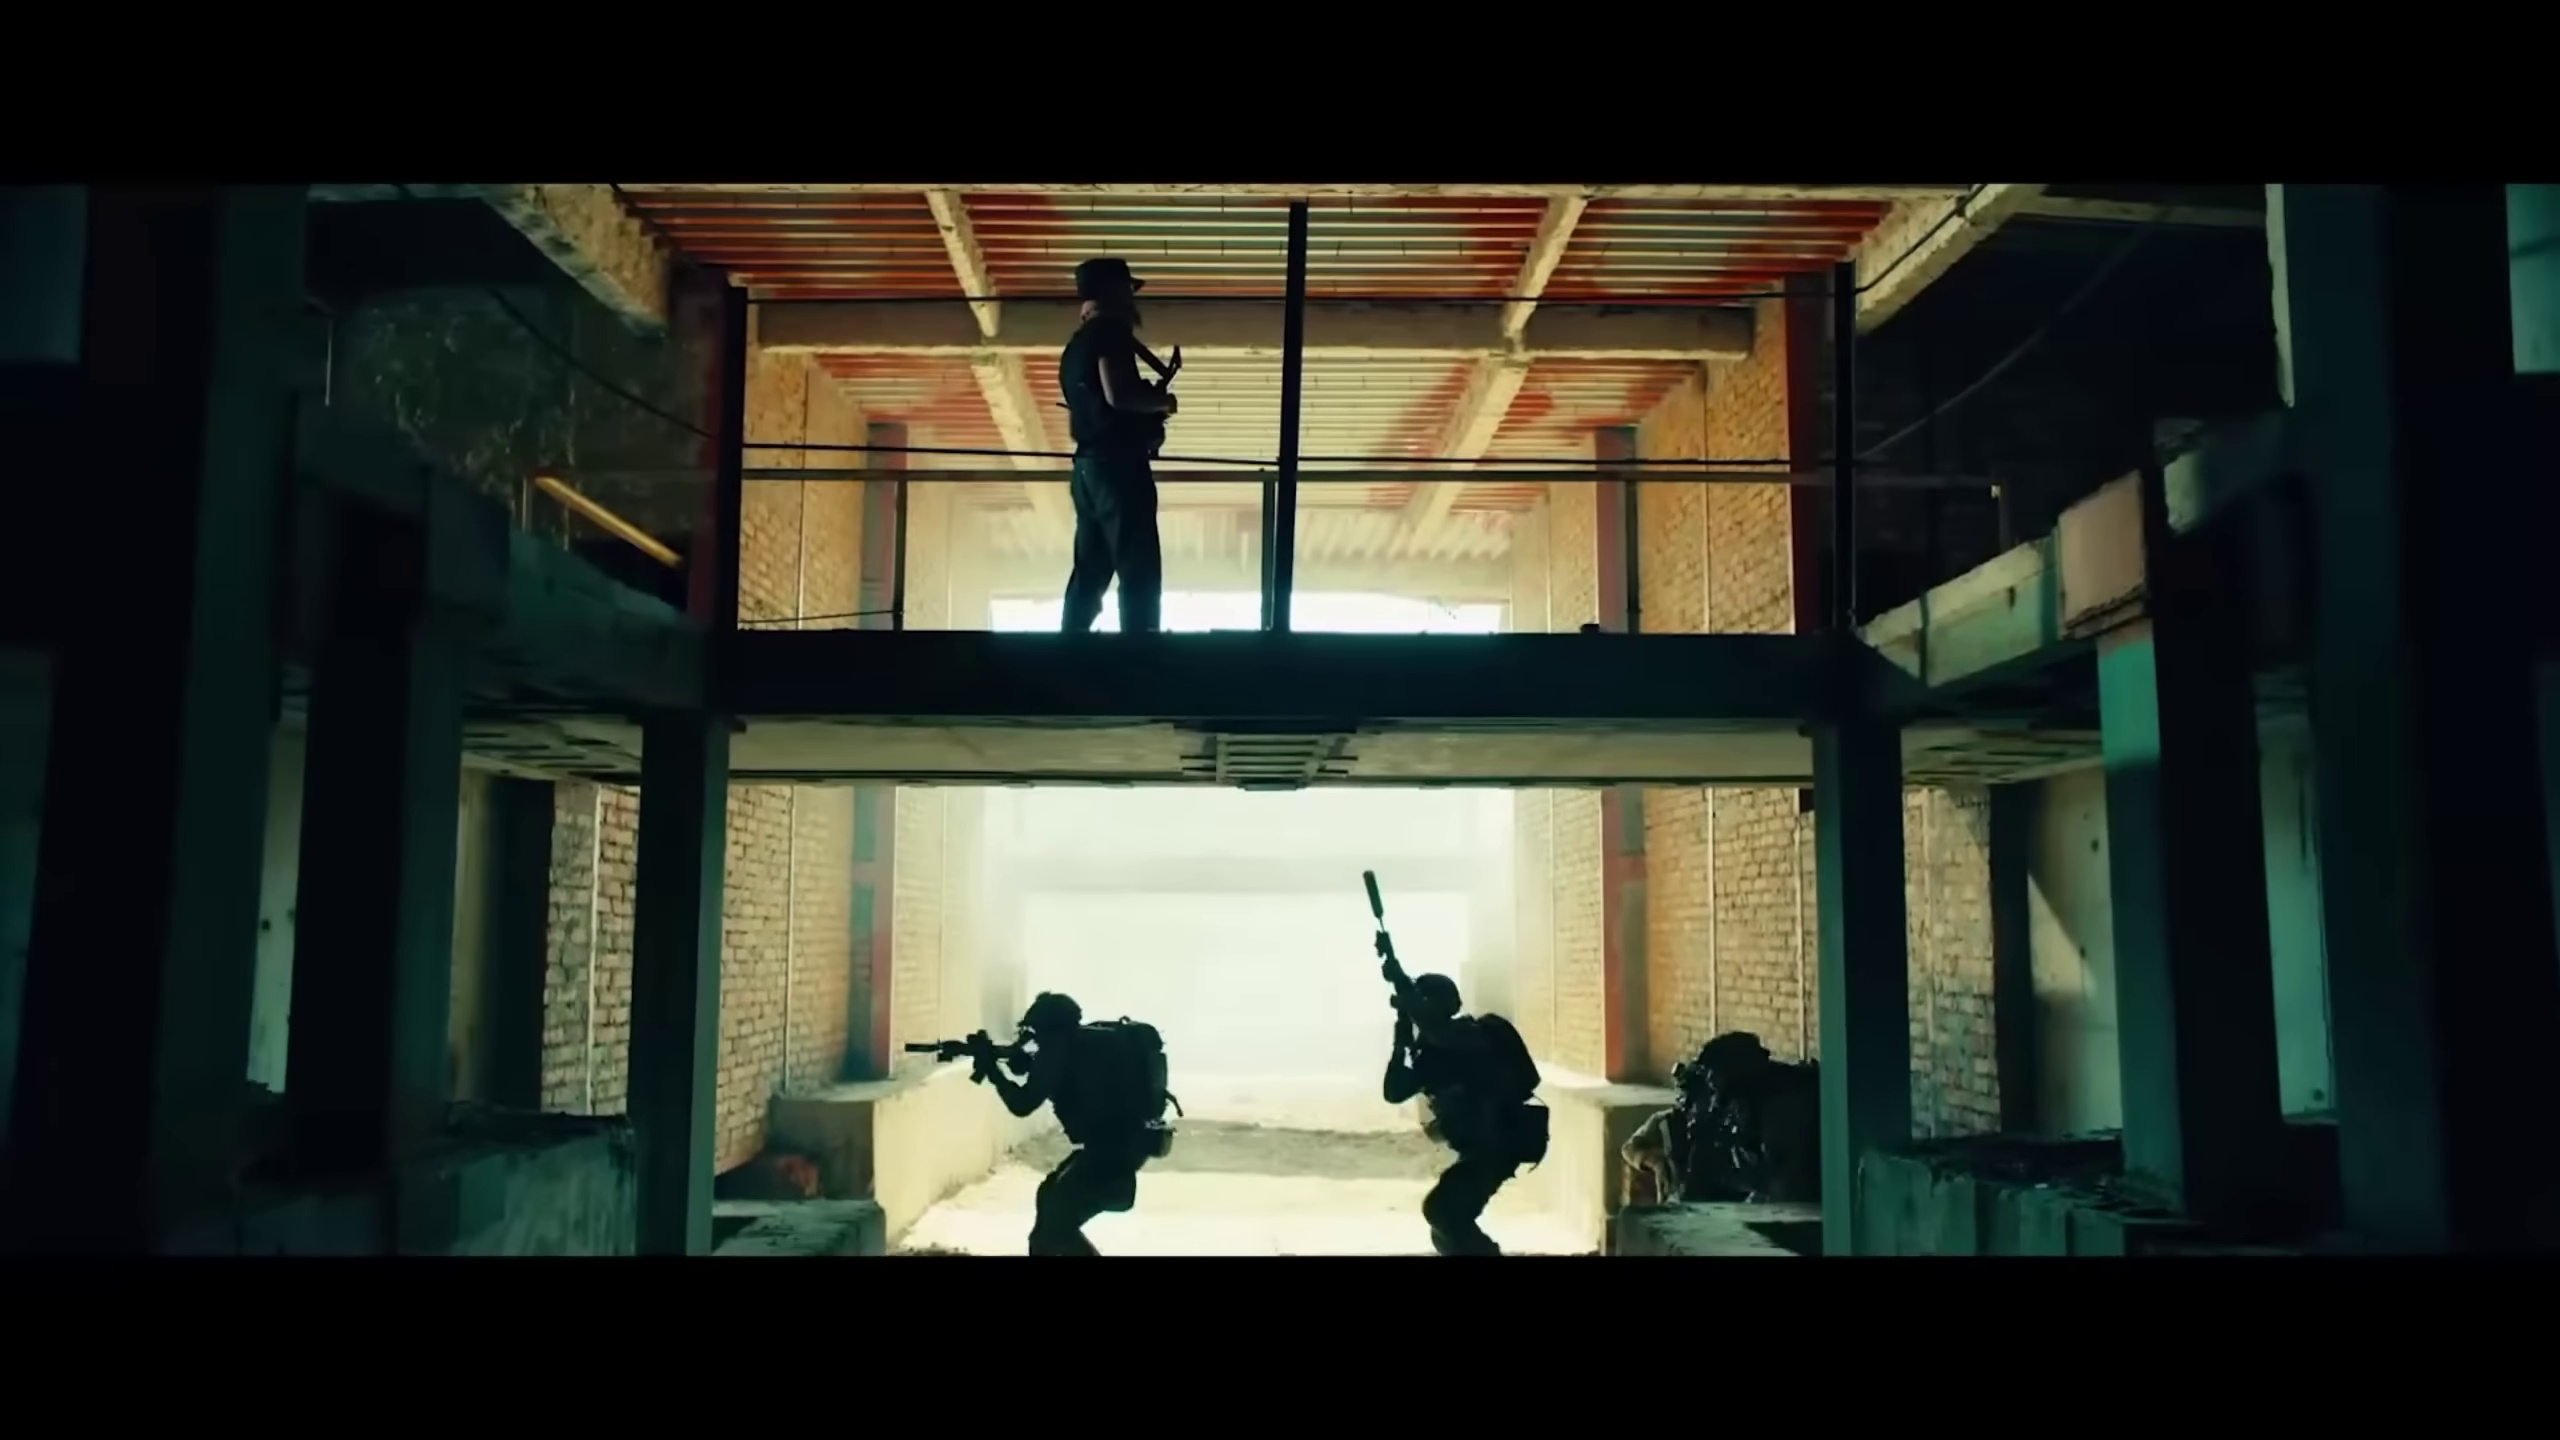gun: (1359, 867, 1424, 1069), (902, 1025, 1044, 1085), (1656, 1109, 1697, 1199), (1139, 341, 1185, 417)
p_w_gun: (1357, 863, 1553, 1257), (904, 988, 1178, 1259), (1055, 253, 1185, 629), (1618, 1058, 1711, 1210)
p_wo_gun_carrying_another_object: (1683, 1027, 1825, 1203)
